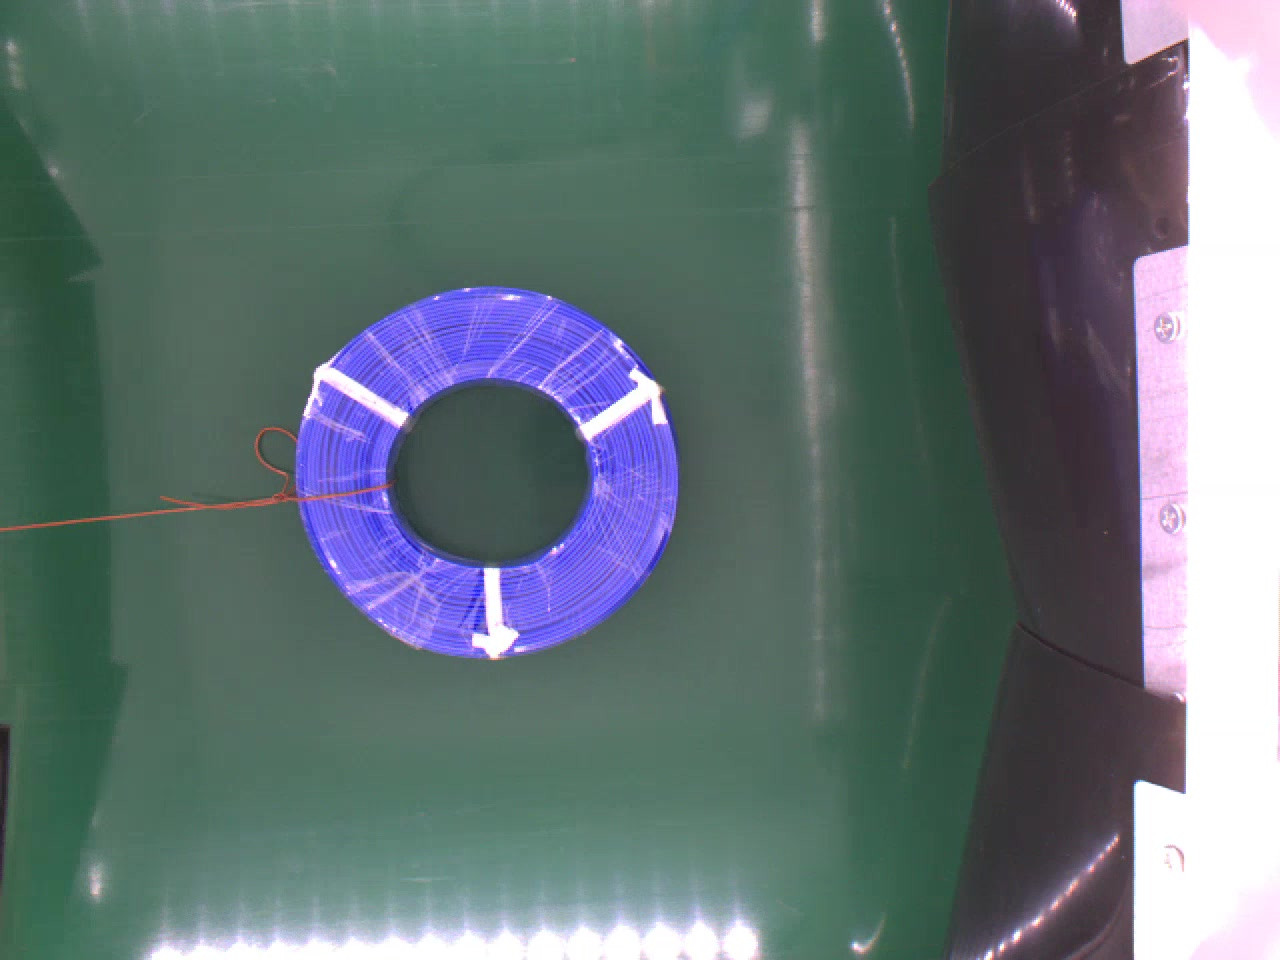blue: (290, 277, 686, 658)
